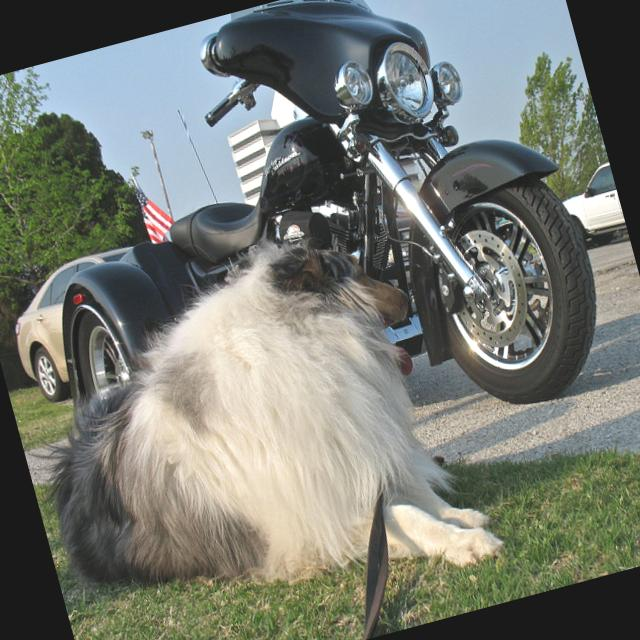Vehicle: (0, 0, 618, 520), (0, 244, 167, 410), (554, 162, 627, 245)
